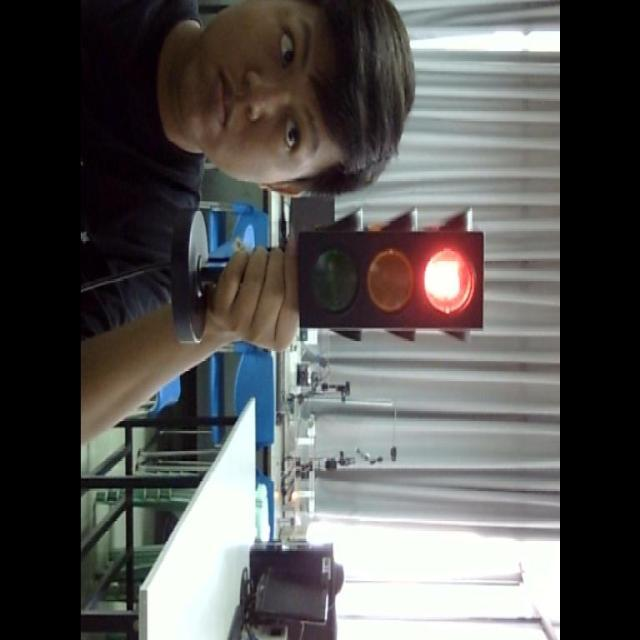red light: (418, 238, 482, 329)
